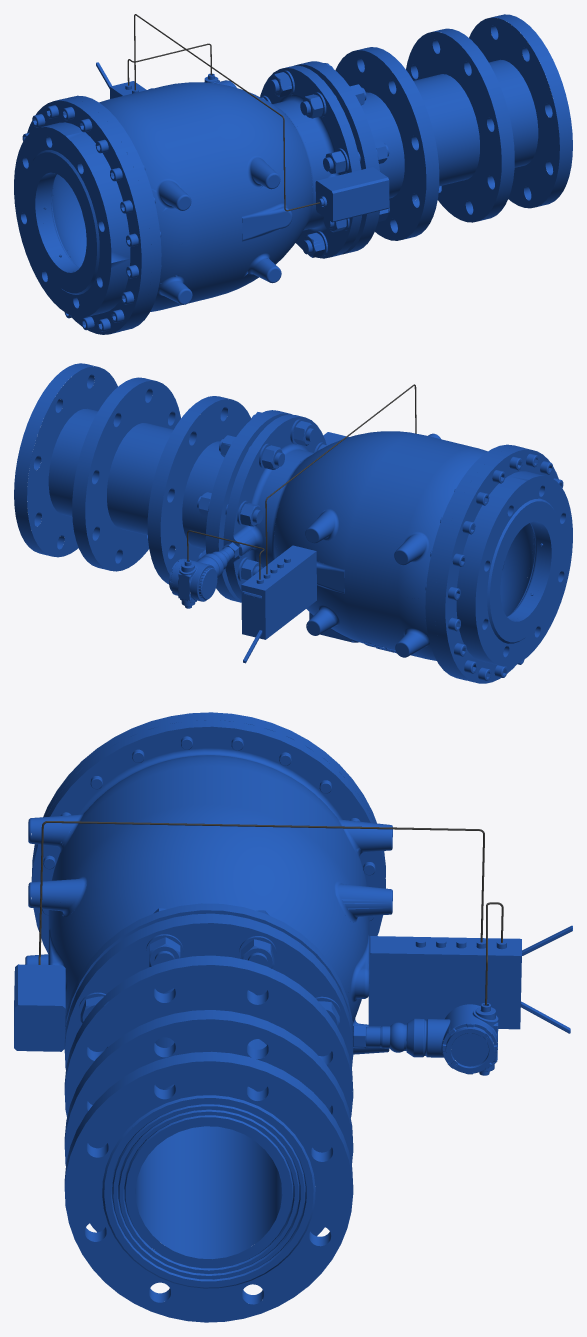
Rendered from 止回阀+伸缩节.glb.
3 views of the same model, one above another, from view 1: azimuth 30°, elevation 25°; view 2: azimuth 150°, elevation 25°; view 3: azimuth 270°, elevation 25° (orthographic). The views are drawn at different scales.
Visible parts, largest first — view 1: 上水回水止回阀加伸缩节.SLDPRT; view 2: 上水回水止回阀加伸缩节.SLDPRT; view 3: 上水回水止回阀加伸缩节.SLDPRT.
Boxes of the visible parts, <box> form: 上水回水止回阀加伸缩节.SLDPRT: <box>14,14,572,334</box>; 上水回水止回阀加伸缩节.SLDPRT: <box>14,363,572,683</box>; 上水回水止回阀加伸缩节.SLDPRT: <box>14,712,572,1322</box>.
Bounding box in the file's own units: 0.7825 × 0.35 × 0.5522.
